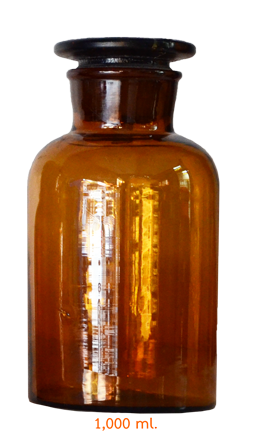glass_bottle: (20, 28, 232, 418)
